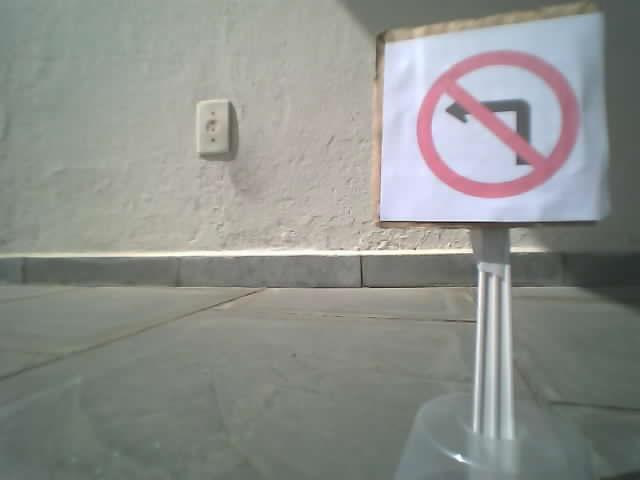R-4a_proibido-esquerda: (416, 49, 577, 199)
